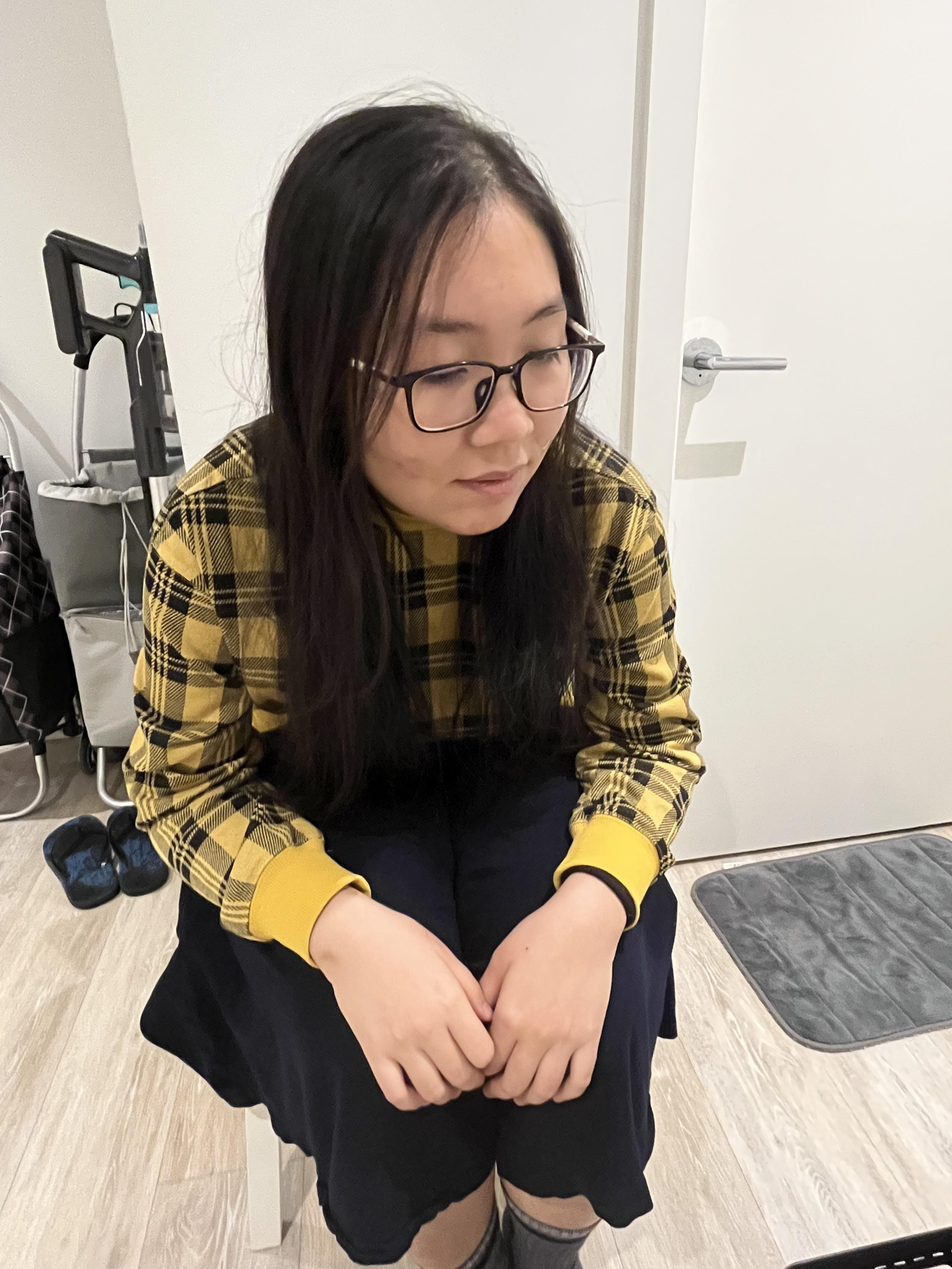BadPosture: (123, 102, 703, 1269)
